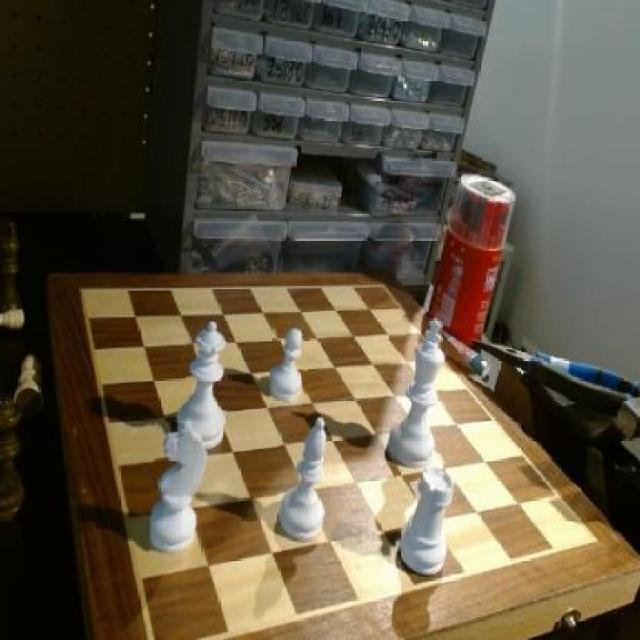black-rook: (278, 412, 332, 541)
white-bishop: (391, 314, 446, 467)
white-king: (150, 423, 208, 561)
white-knight: (271, 326, 309, 403)
white-pawn: (186, 322, 228, 452)
white-queen: (401, 468, 457, 577)
